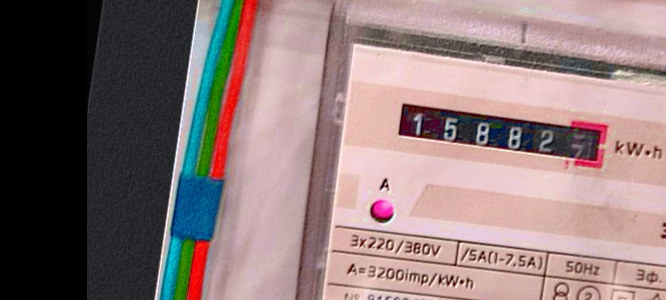1: (413, 106, 430, 137)
2: (539, 125, 560, 154)
5: (443, 113, 464, 145)
7: (572, 139, 587, 158)
8: (475, 117, 495, 147), (508, 121, 528, 151)
screen: (387, 84, 620, 177)
